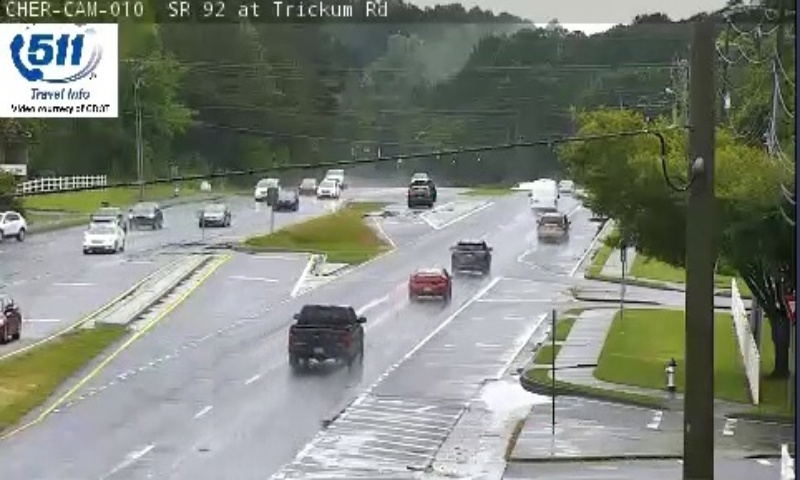car: (287, 304, 363, 359), (408, 270, 451, 299), (451, 240, 491, 270), (536, 212, 569, 245)
van: (529, 178, 556, 216)
